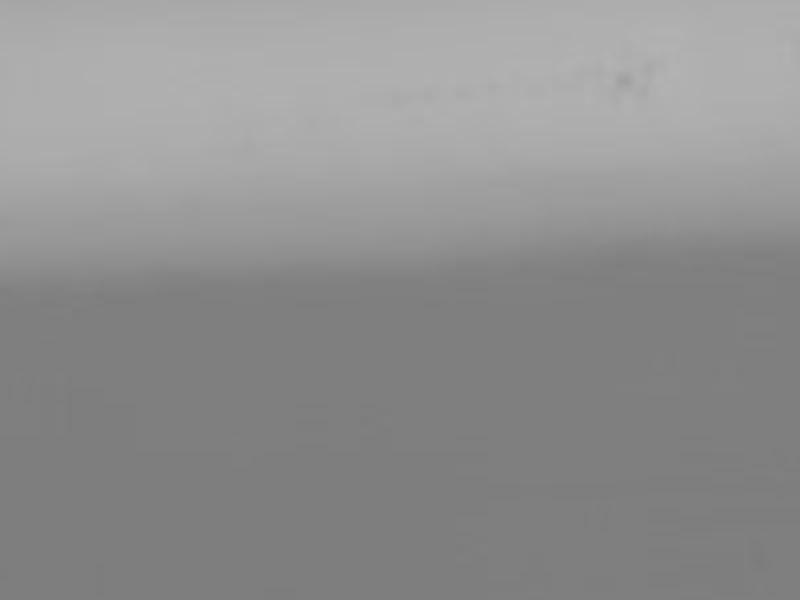defect: (611, 65, 636, 88)
